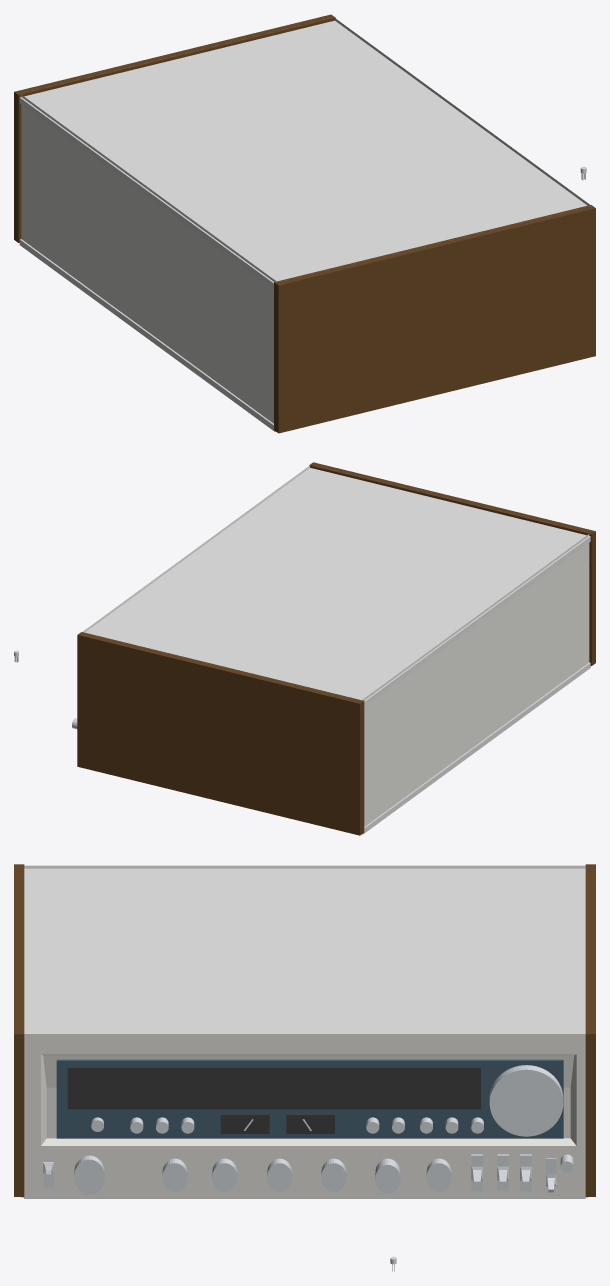
File: Kenwood9400v1closed.glb
3 views of the same model, one above another, from view 1: azimuth 30°, elevation 25°; view 2: azimuth 150°, elevation 25°; view 3: azimuth 270°, elevation 25° (orthographic). The views are drawn at different scales.
Parts seen in each view (by area): view 1: Cube.007, Cube.003, Cube, Cube.004, Cube.008; view 2: Cube.007, Cube.004, Cube, Cube.003, Cube.008; view 3: Cube.007, Cube, radio-panel, radio-faceplate, tuning-dial, Cube.003, Cube.004, Cube.008, speaker-control, radio-panel-3.001, radio-panel-3, volume (+5 smaller).
Boxes of the visible parts, x1,y1,x2,y2 form: Cube.007: (19,20,586,288); Cube.003: (274,205,595,433); Cube: (21,18,589,423); Cube.004: (14,14,335,242); Cube.008: (19,239,275,431); Cube.007: (85,468,590,706); Cube.004: (77,632,364,835); Cube: (83,465,589,826); Cube.003: (309,462,595,665); Cube.008: (362,662,590,834); Cube.007: (24,868,585,1033); Cube: (21,865,588,1197); radio-panel: (67,1068,480,1109); radio-faceplate: (56,1059,563,1138); tuning-dial: (489,1065,563,1136); Cube.003: (14,864,24,1196); Cube.004: (585,864,595,1196); Cube.008: (24,1197,585,1198); speaker-control: (74,1155,104,1194); radio-panel-3.001: (220,1114,269,1133); radio-panel-3: (286,1114,334,1133); volume: (375,1158,400,1193).
Bounding box in the file's own units: 50 × 14.95 × 47.75.
